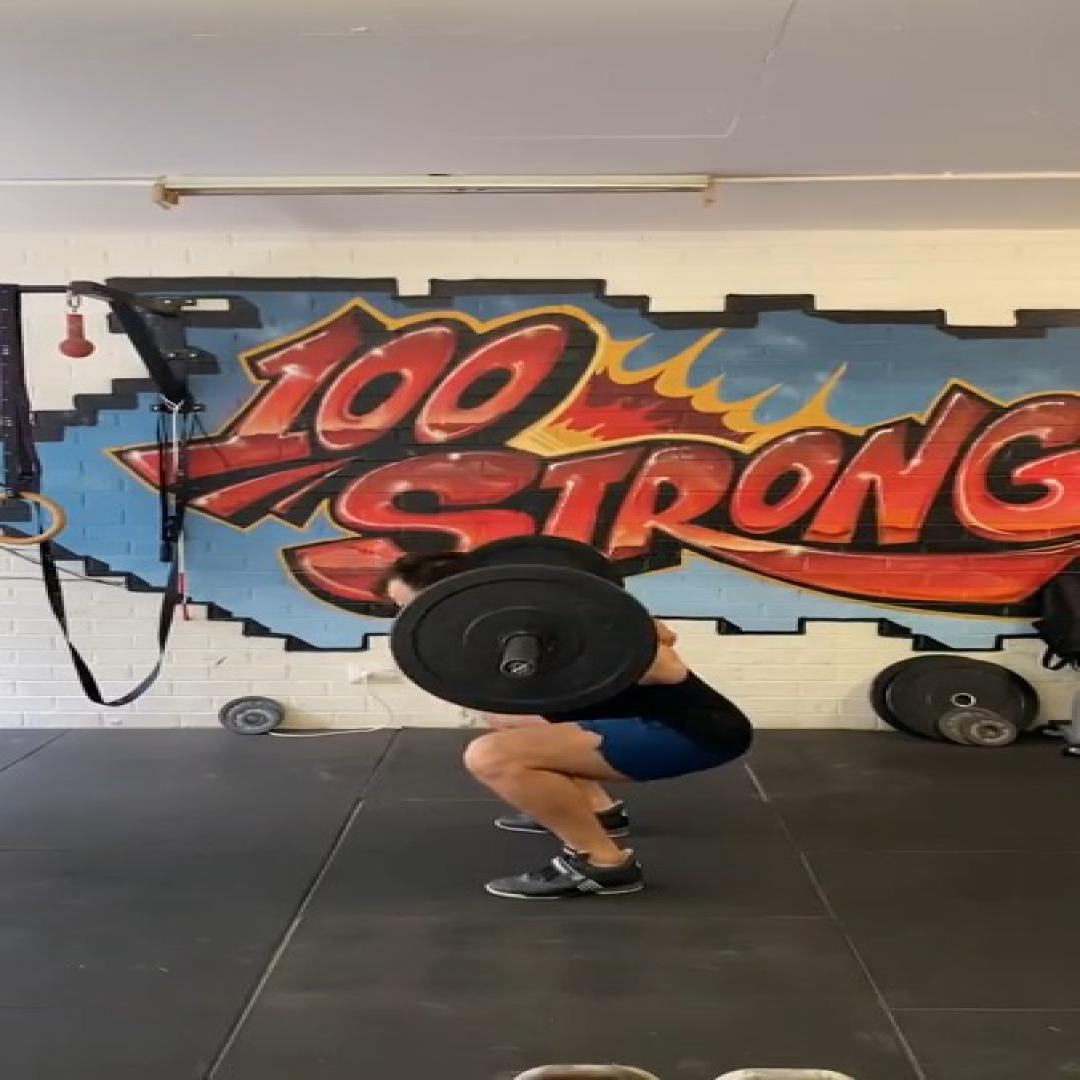Bar: (497, 657, 540, 679)
Barbell: (389, 564, 658, 716)
